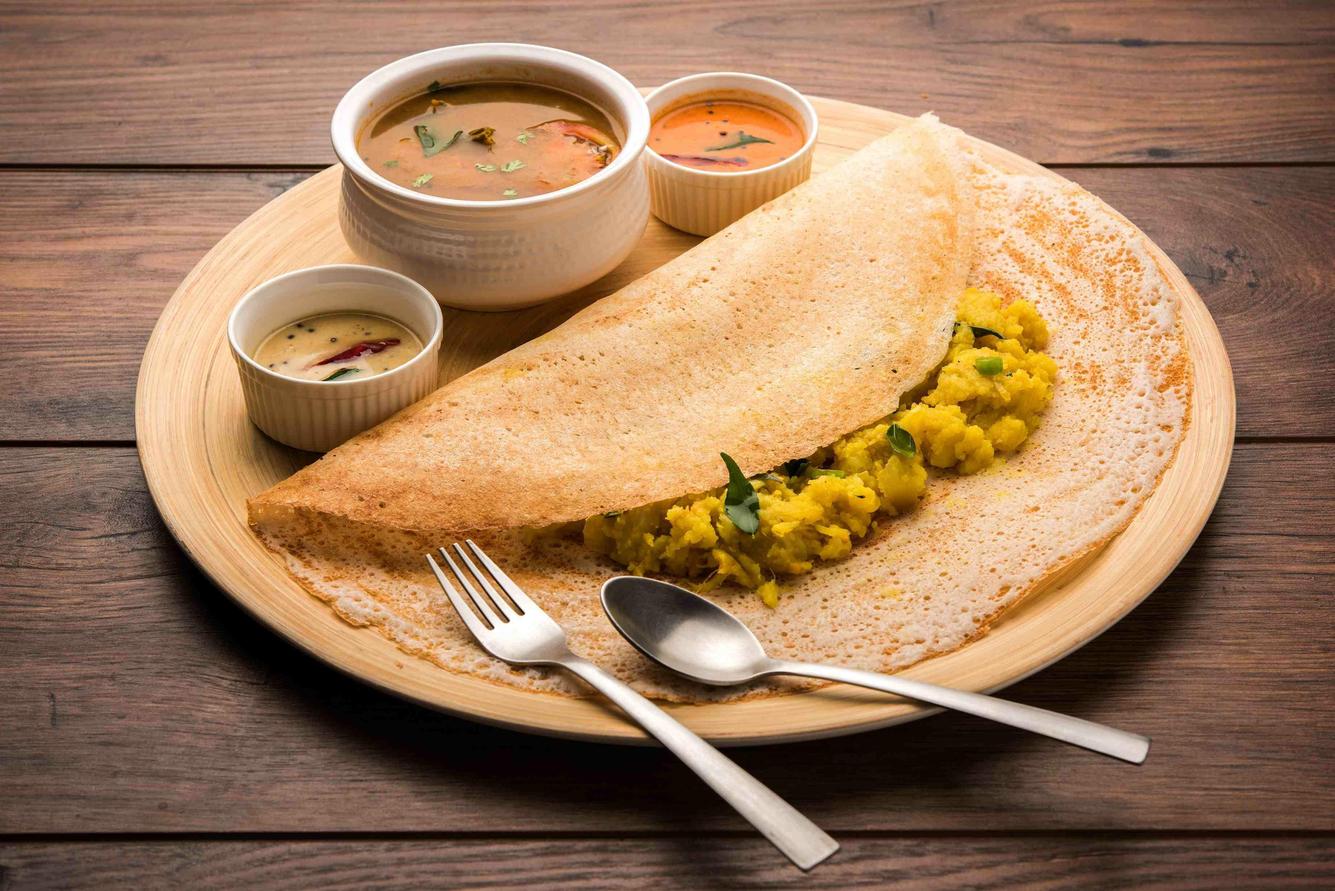CoconutChutney: (251, 309, 422, 383)
Dosa: (248, 112, 1193, 705)
